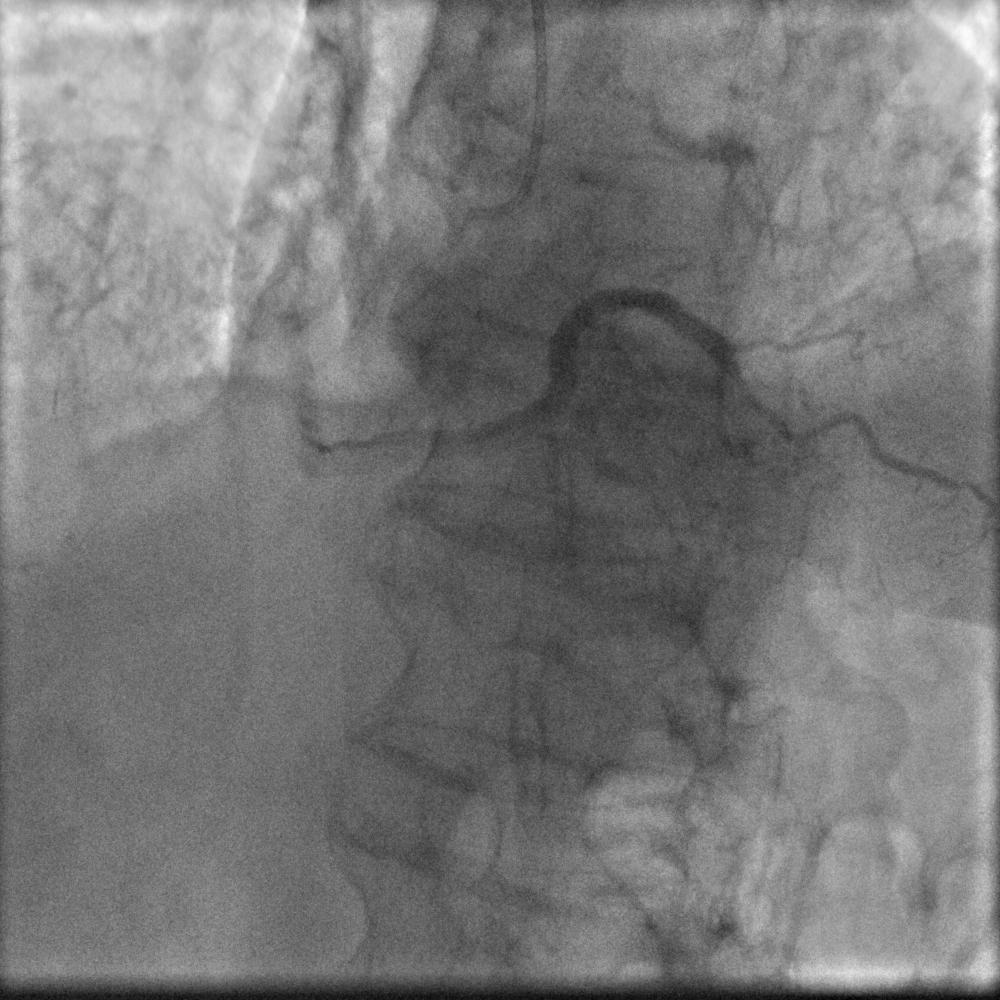Stenosis: (723, 333, 760, 414)
